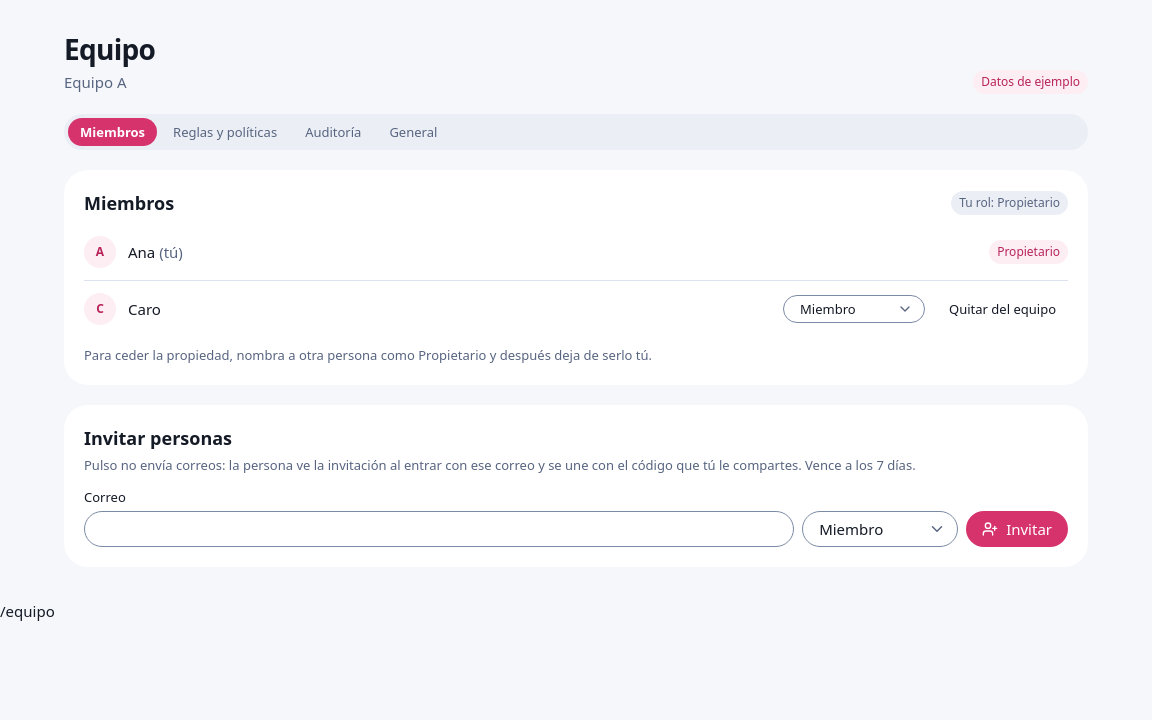
Equipo (EQ-01 a EQ-08, PS-02) › quitar del equipo pide confirmación y avisa qué se borra (AC-12)
Expected: the text "Caro" is shown, x1=128 y1=299 x2=161 y2=319
Click the button "Quitar del equipo": (1003, 309) x1=937 y1=295 x2=1068 y2=323
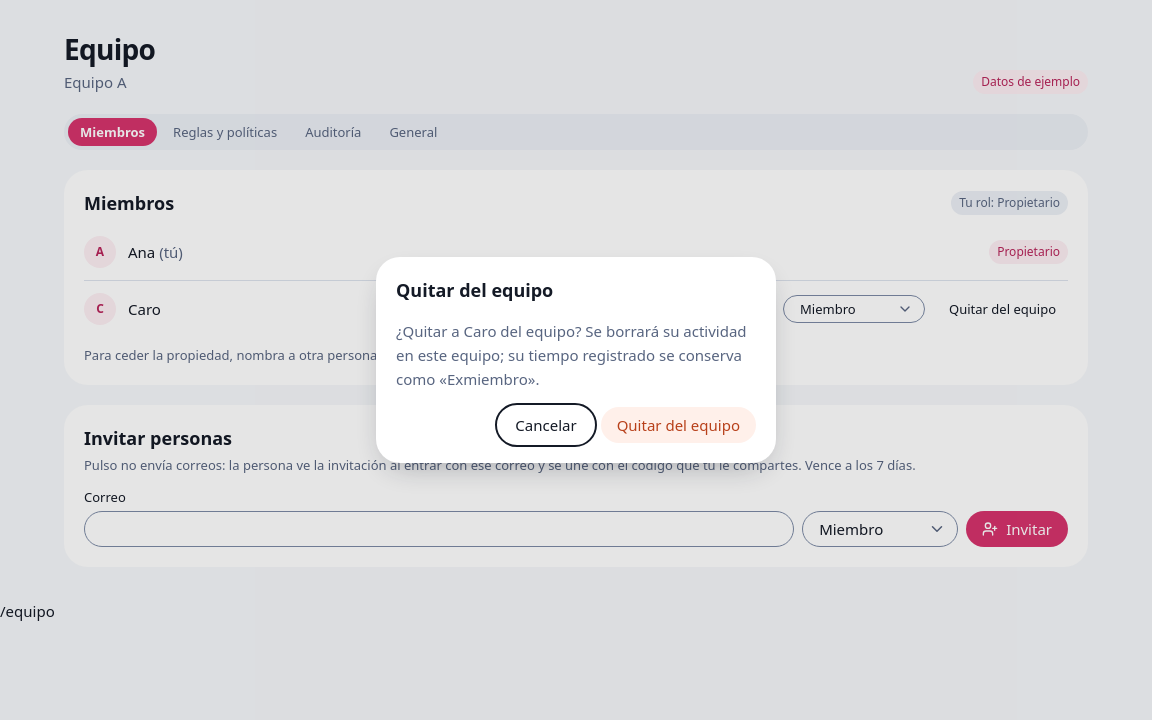
Expected: the dialog "Quitar del equipo" shows "Se borrará su actividad", x1=396 y1=321 x2=747 y2=389
Expected: the dialog "Quitar del equipo" shows "Exmiembro", x1=396 y1=321 x2=747 y2=389
Click the button "Quitar del equipo": (678, 425) x1=601 y1=407 x2=756 y2=443
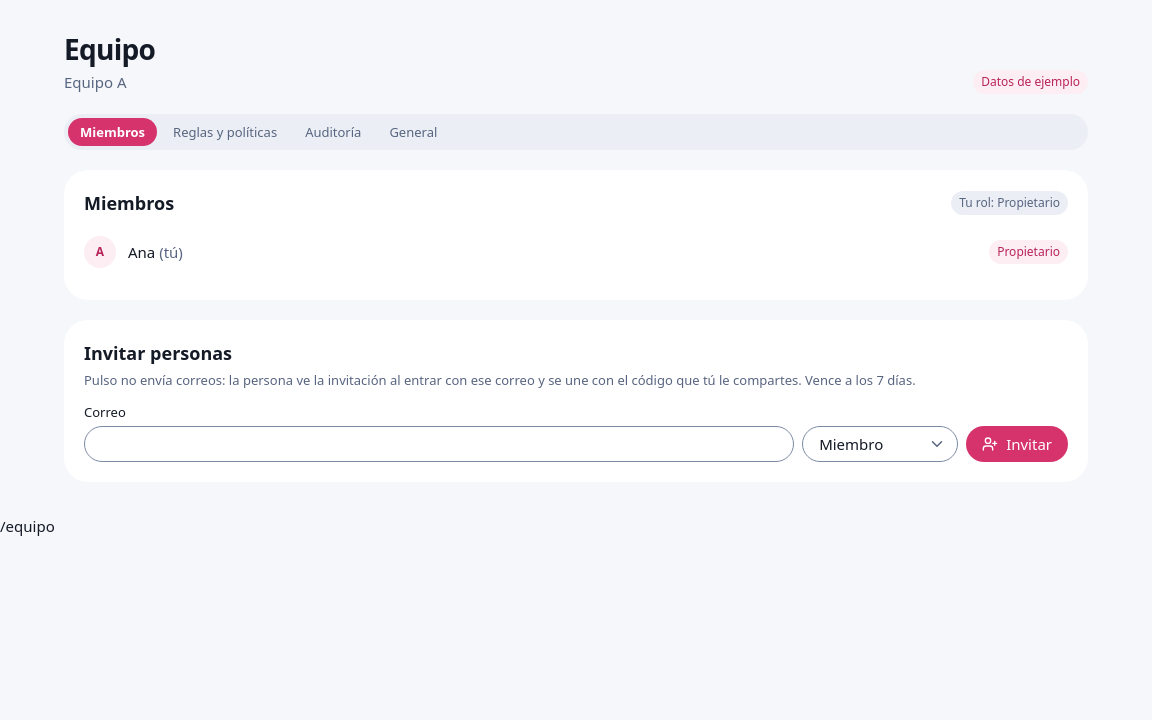
Expected: the text "Caro" is gone
